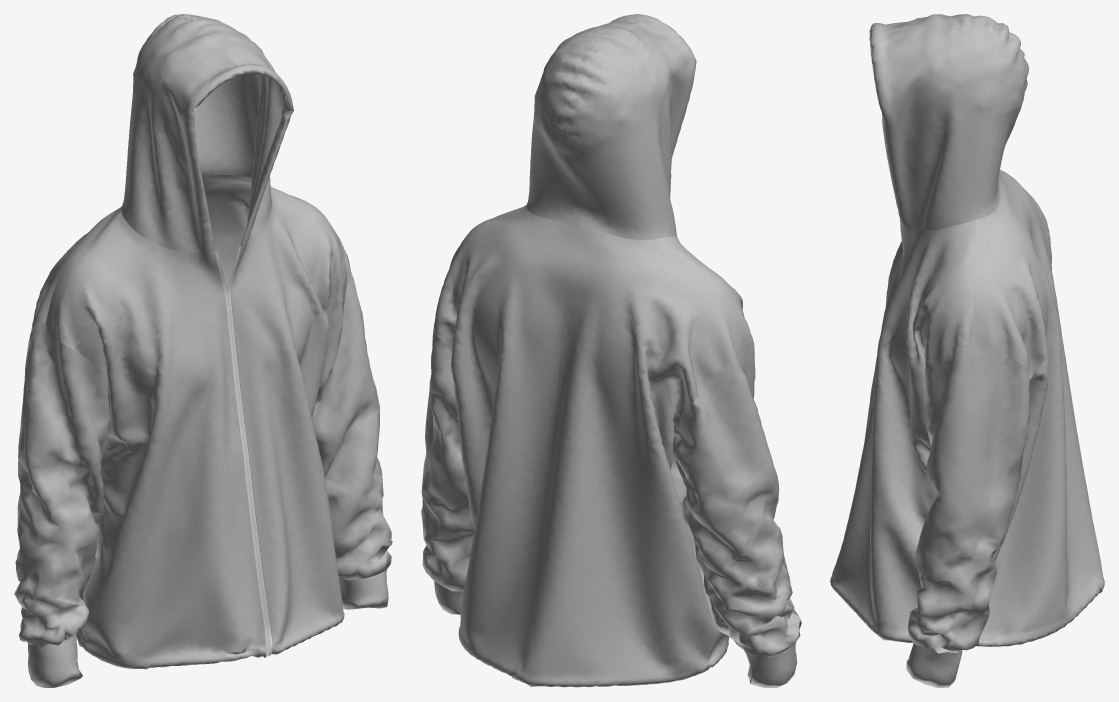
The model's file is hoodie-clean.glb.
The picture shows the model from 3 angles, left to right: view 1: azimuth 30°, elevation 25°; view 2: azimuth 150°, elevation 25°; view 3: azimuth 270°, elevation 25°; orthographic projection. The views are drawn at different scales.
Parts seen in each view (by area): view 1: HoodieCloth; view 2: HoodieCloth; view 3: HoodieCloth.
Part boxes in pixels (box(x1,y1,x2,y2)): HoodieCloth: box(14, 14, 392, 687); HoodieCloth: box(421, 14, 801, 687); HoodieCloth: box(830, 14, 1104, 687).
Bounding box in the file's own units: 0.6308 × 1.01 × 0.4239.
6 materials, 6 textured.
